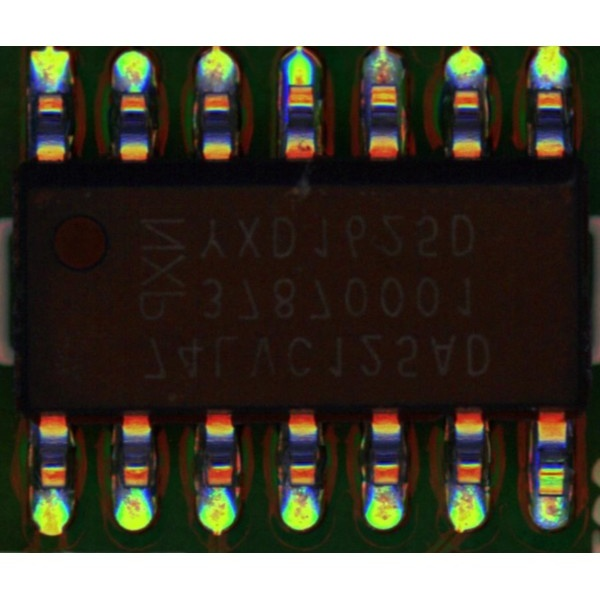Bad_podu: (541, 481, 563, 514), (289, 76, 312, 92)
